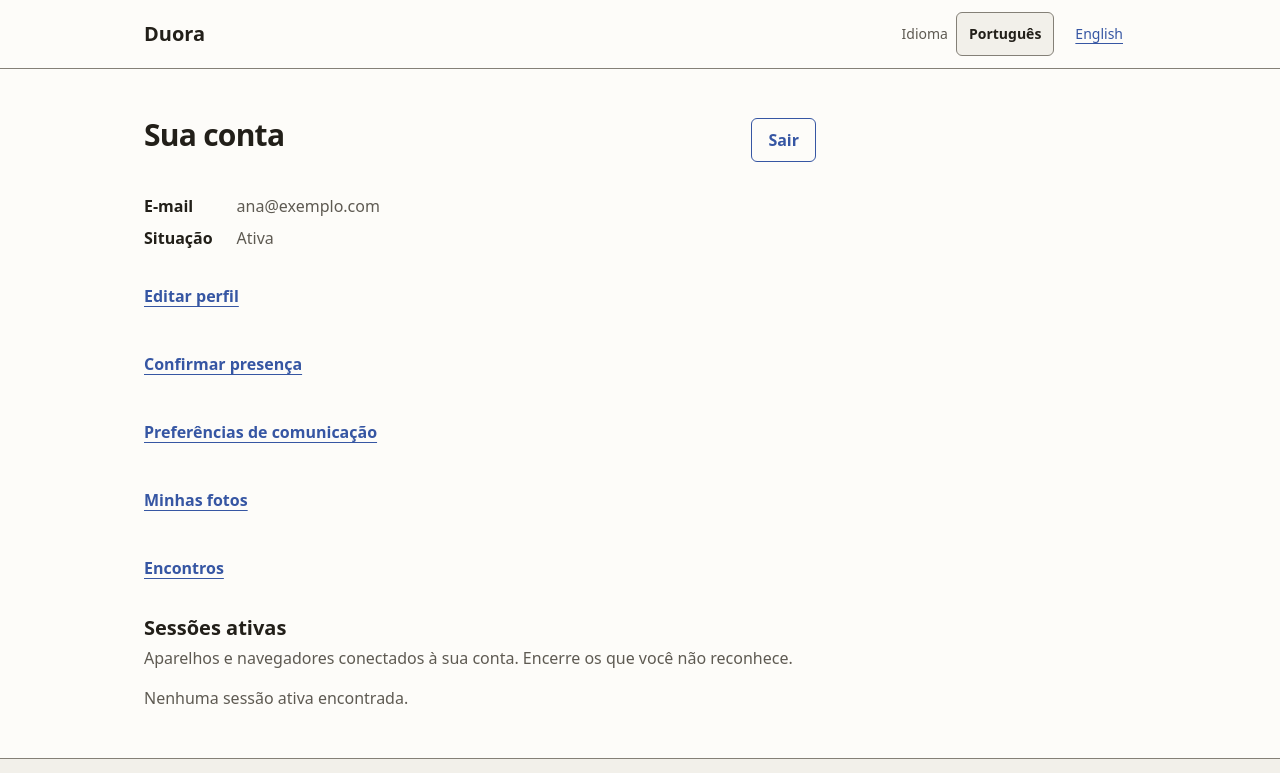
Test case: perfil: leitura › a conta tem o link para editar o perfil
The image size is (1280, 773).
Click the link "Editar perfil": (191, 296) [144,285,239,307]
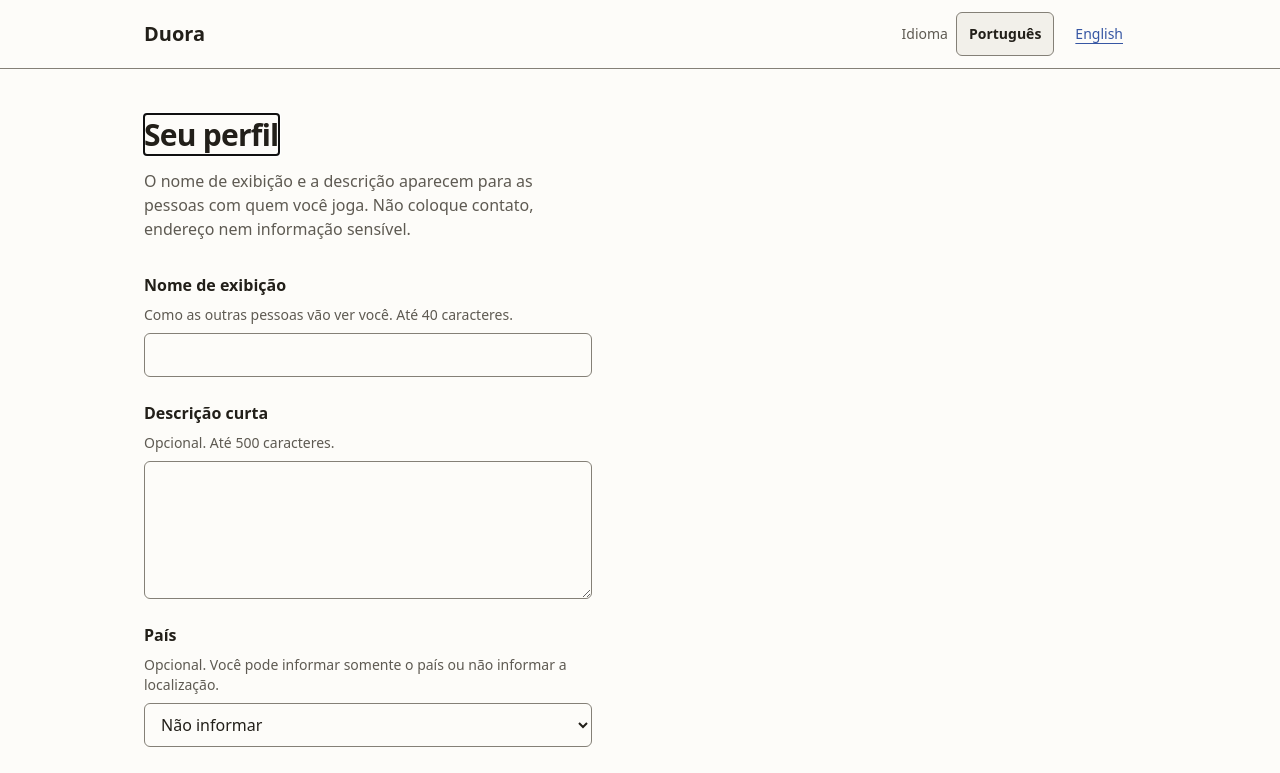
Check: the heading "Seu perfil" is shown, box [144,117,278,153]
